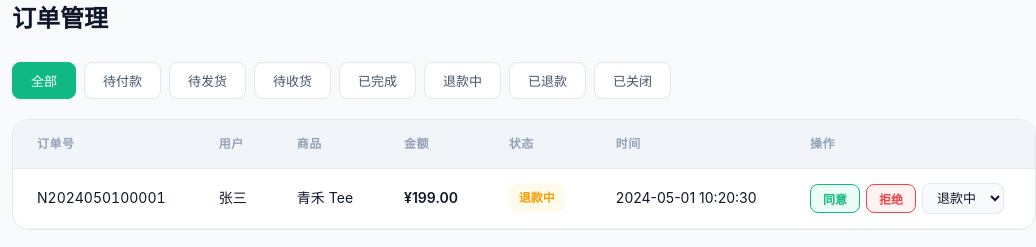
admin/Orders 订单管理 › 退款审核：拒绝退款后状态回退为待发货
Click the button with class "btn-reject": x=891, y=198 top-left (866, 184), bottom-right (916, 213)
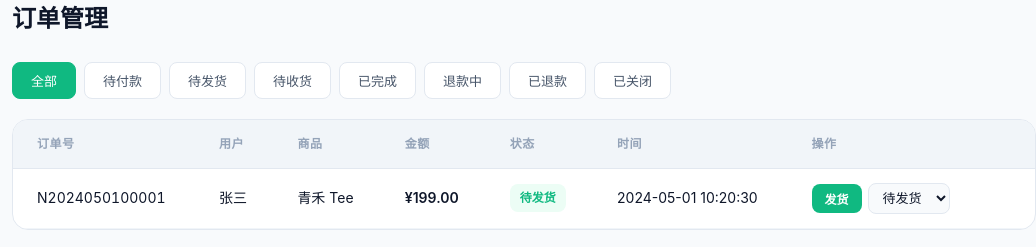
Expected: the text with class "status-badge" reads "待发货", top-left (520, 190), bottom-right (556, 206)
Expected: the button with class "btn-ship" is shown, top-left (812, 184), bottom-right (862, 213)
